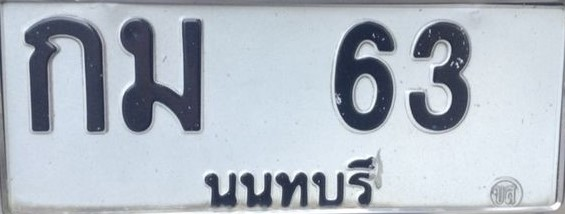txt01: (20, 14, 109, 136)
txt28: (117, 15, 206, 137)
